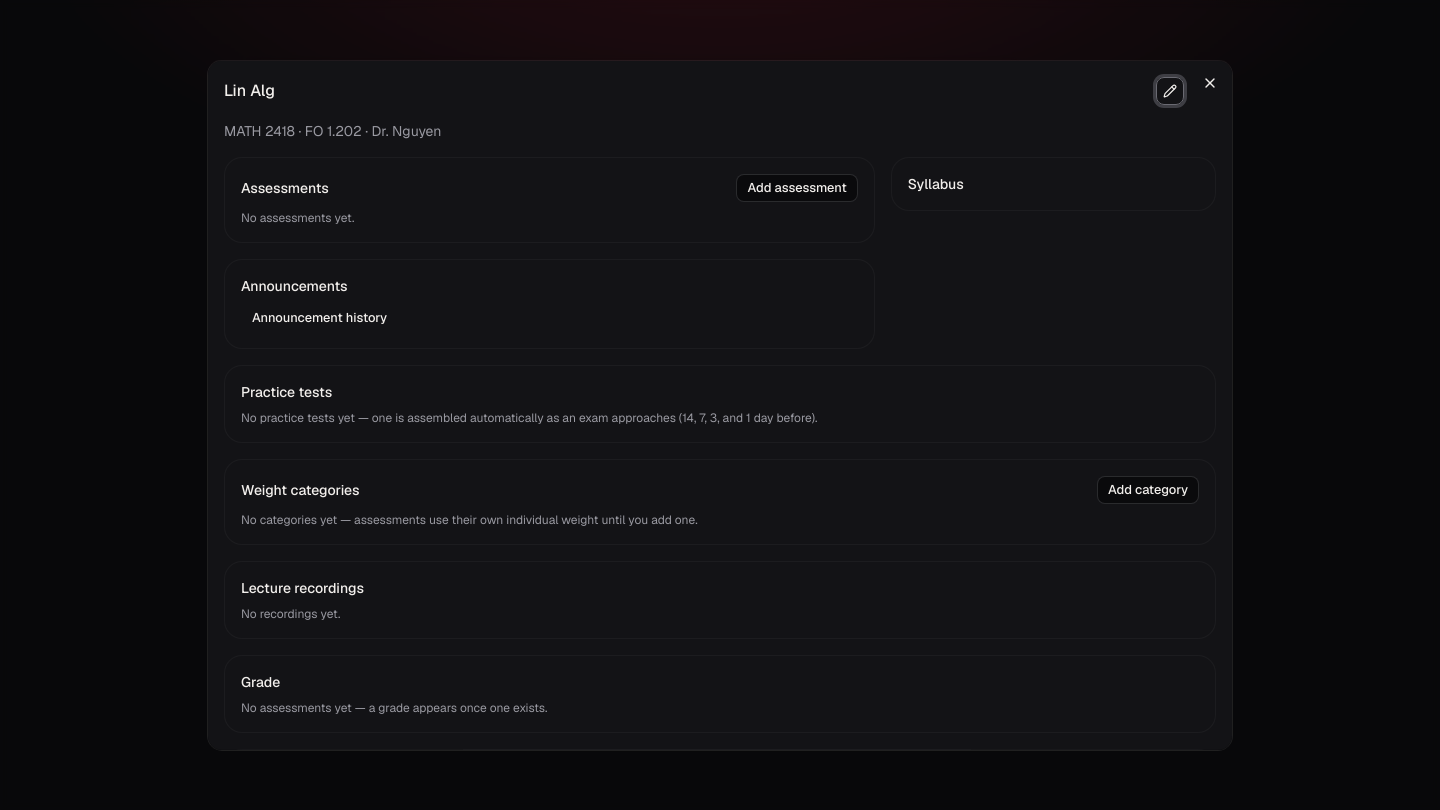
Test: ClassDetailDialog › refuses to save an empty class code -- classes.code is NOT NULL
Click the button named "Edit Lin Alg" at x=1170, y=91, box left=1156, top=77, right=1184, bottom=105
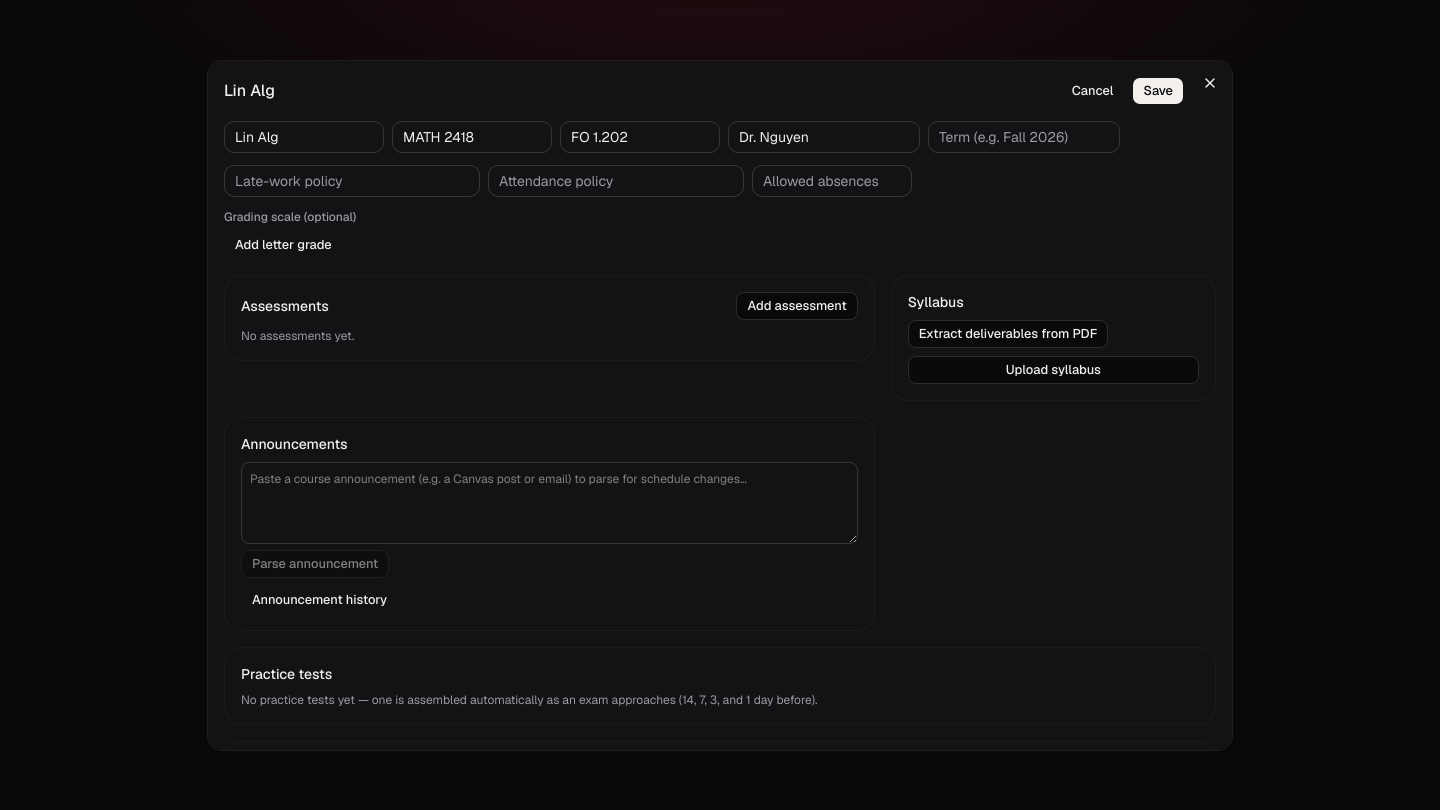
Clear the field with placeholder "Code (e.g. CS-3341)" at x=472, y=137, box left=392, top=121, right=552, bottom=153
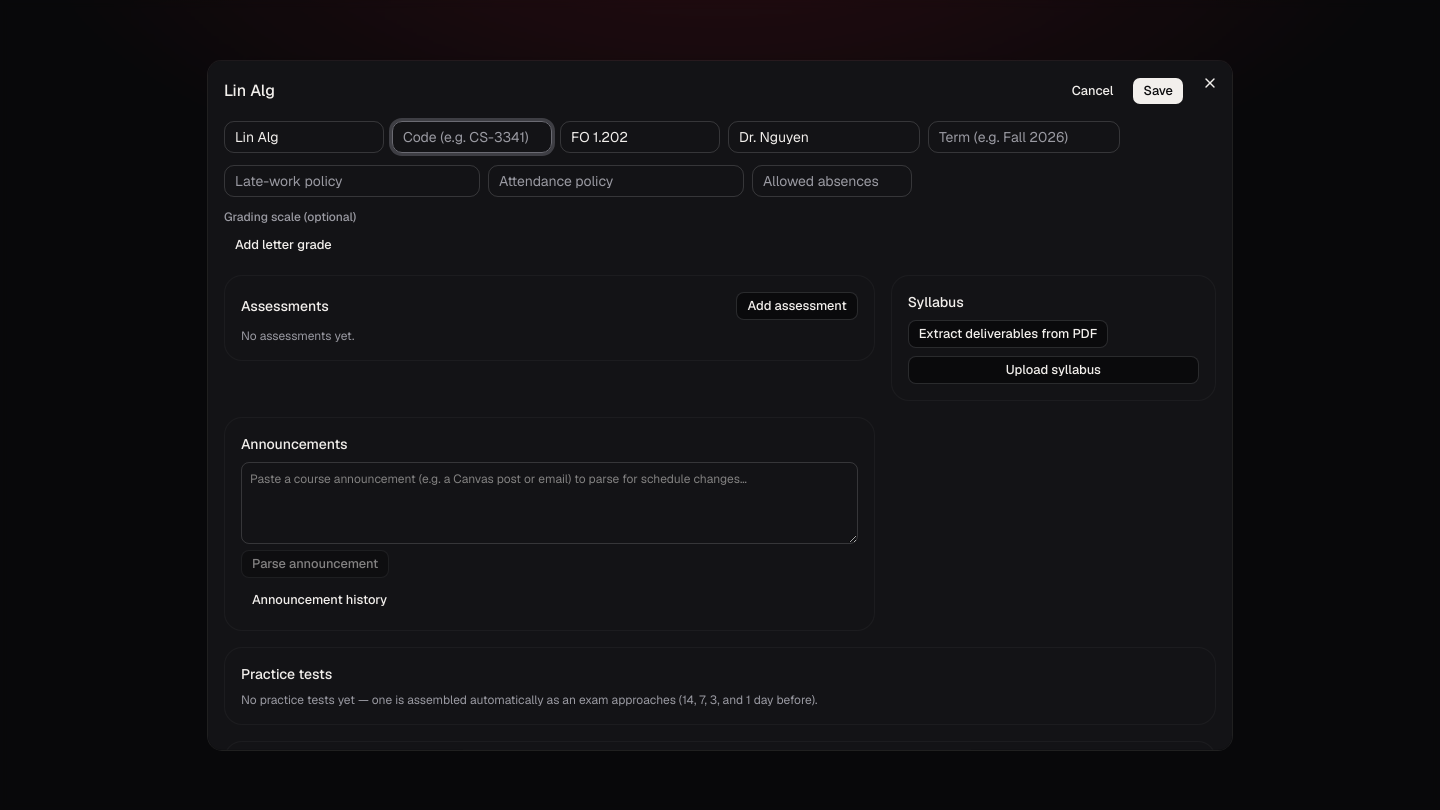
Click the button with aria-label "Save Lin Alg" at x=1158, y=91, box left=1132, top=77, right=1184, bottom=105
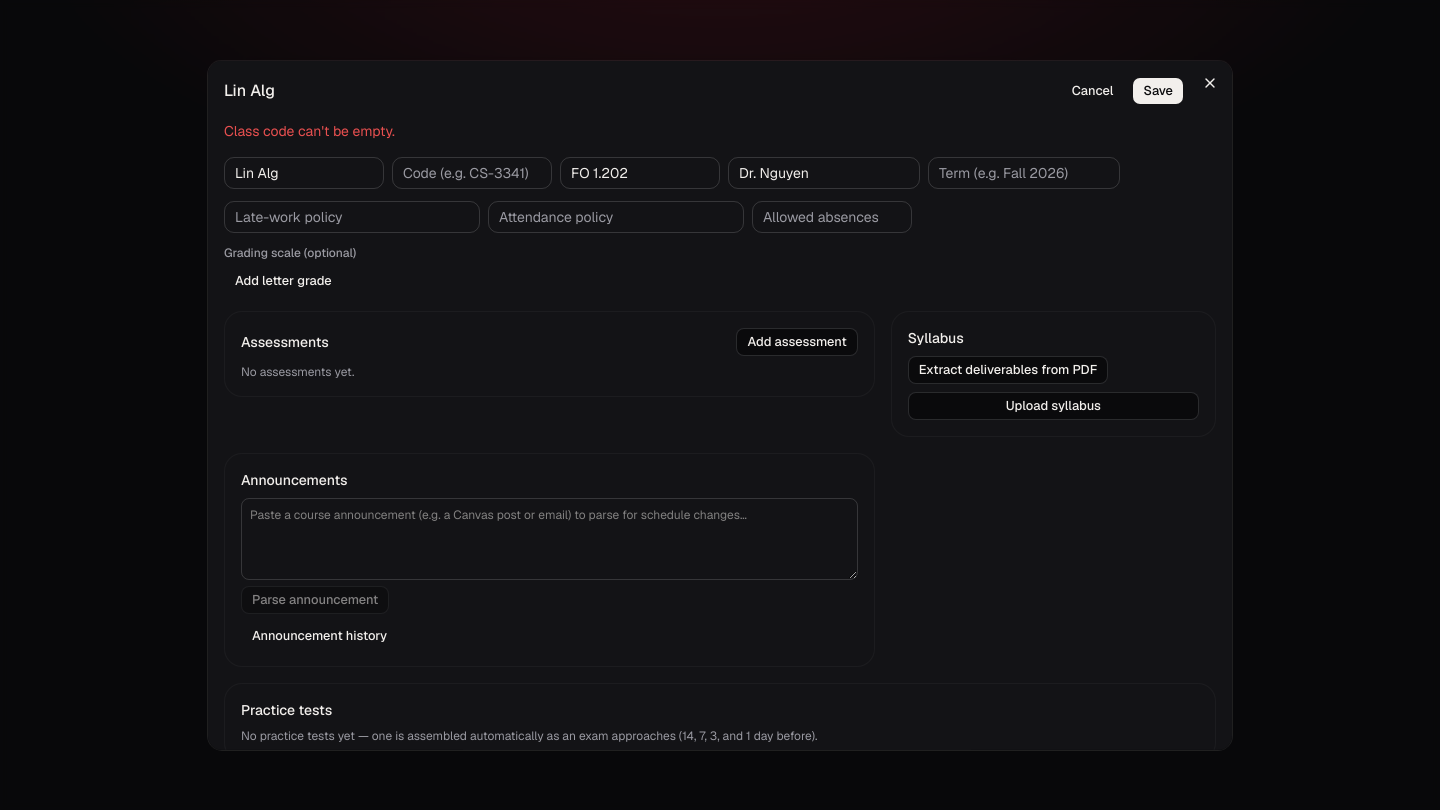
Now the text "Class code can't be empty." is shown, box left=224, top=122, right=395, bottom=140
